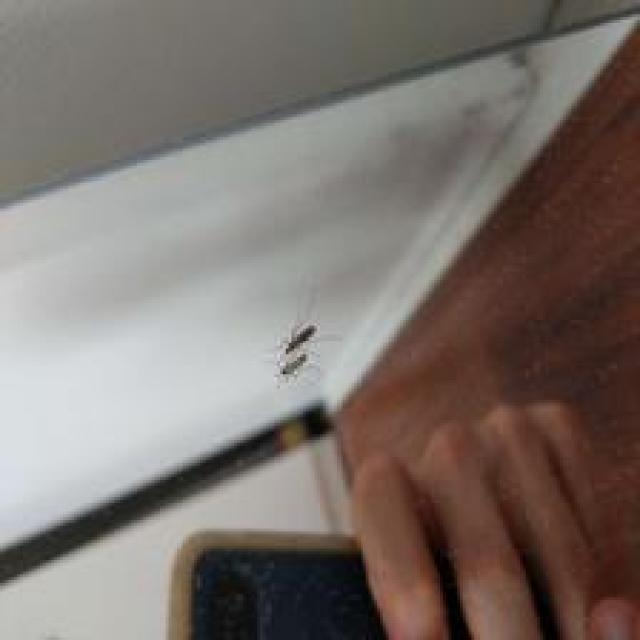Culex: (273, 320, 318, 386)
